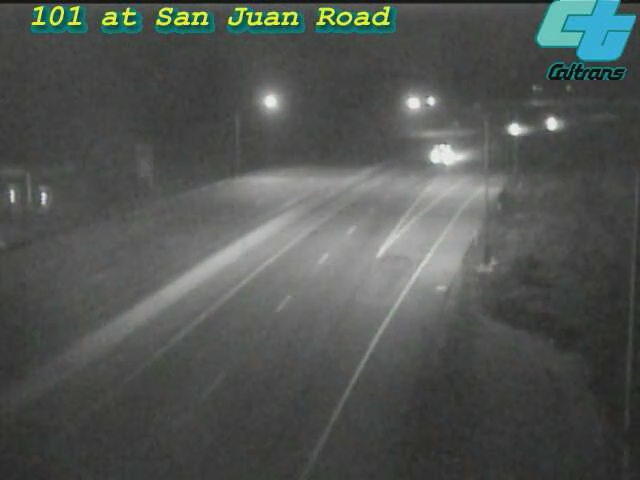vehicle: (525, 98, 575, 148), (486, 105, 536, 155), (417, 128, 467, 178)
